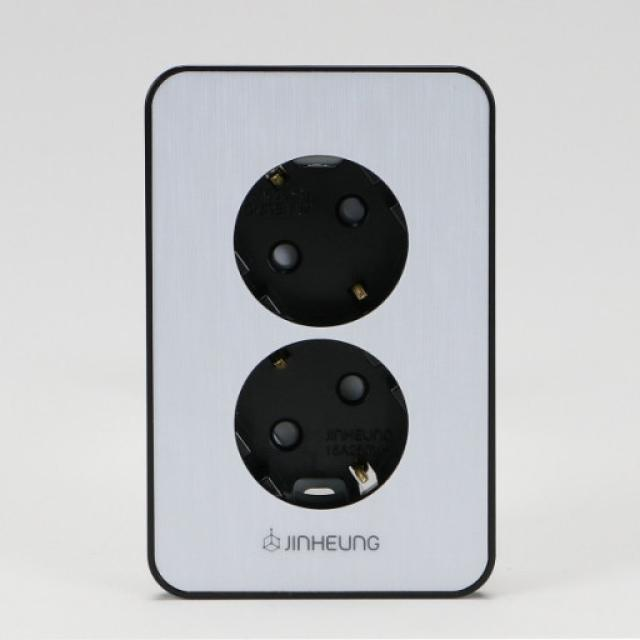typeb: (111, 42, 520, 618)
